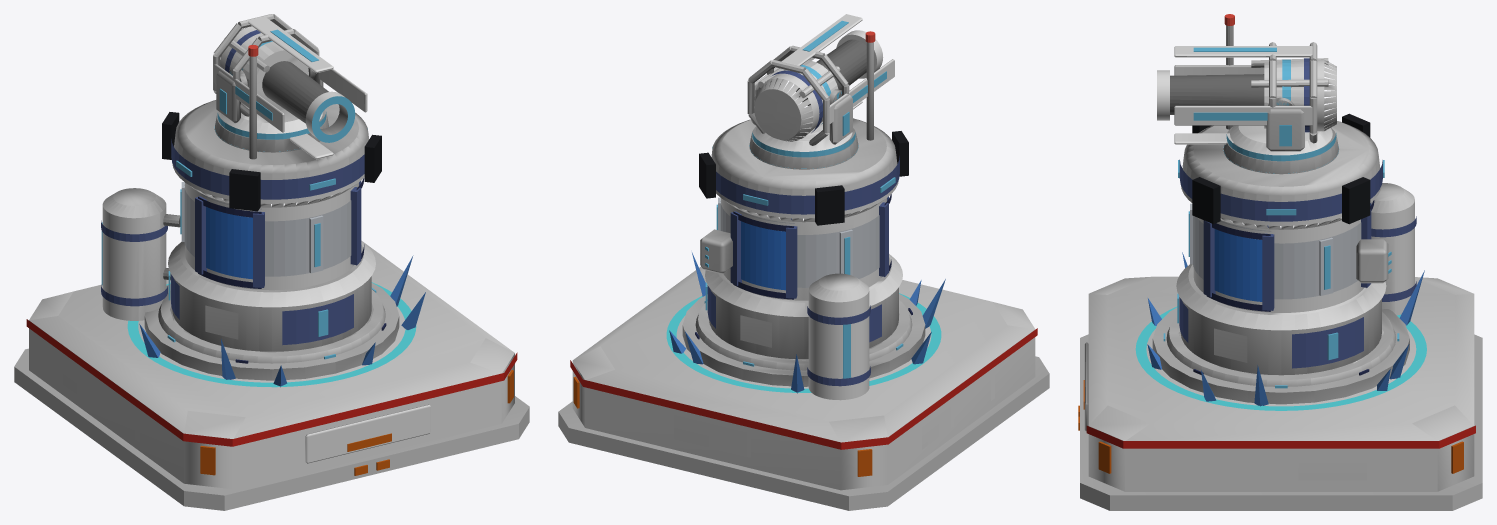
The model's file is ice_1.glb.
The picture shows the model from 3 angles, left to right: view 1: azimuth 30°, elevation 25°; view 2: azimuth 150°, elevation 25°; view 3: azimuth 270°, elevation 25°; orthographic projection. The views are drawn at different scales.
Visible parts, largest first — view 1: Rumpf, Kanone, Kopf, Kammern; view 2: Rumpf, Kanone, Kopf, Kammern; view 3: Rumpf, Kanone, Kopf, Kammern.
Part boxes in pixels (left/top/right/bottom): Rumpf: left=14, top=44, right=529, bottom=510; Kanone: left=213, top=14, right=367, bottom=159; Kopf: left=214, top=71, right=328, bottom=152; Kammern: left=206, top=207, right=252, bottom=279; Rumpf: left=558, top=31, right=1049, bottom=510; Kanone: left=747, top=14, right=894, bottom=145; Kopf: left=749, top=85, right=858, bottom=169; Kammern: left=741, top=197, right=888, bottom=290; Rumpf: left=1078, top=14, right=1482, bottom=510; Kanone: left=1157, top=42, right=1336, bottom=144; Kopf: left=1223, top=109, right=1338, bottom=174; Kammern: left=1214, top=204, right=1370, bottom=301.
Bounding box in the file's own units: 0.94 × 0.999 × 0.944.
